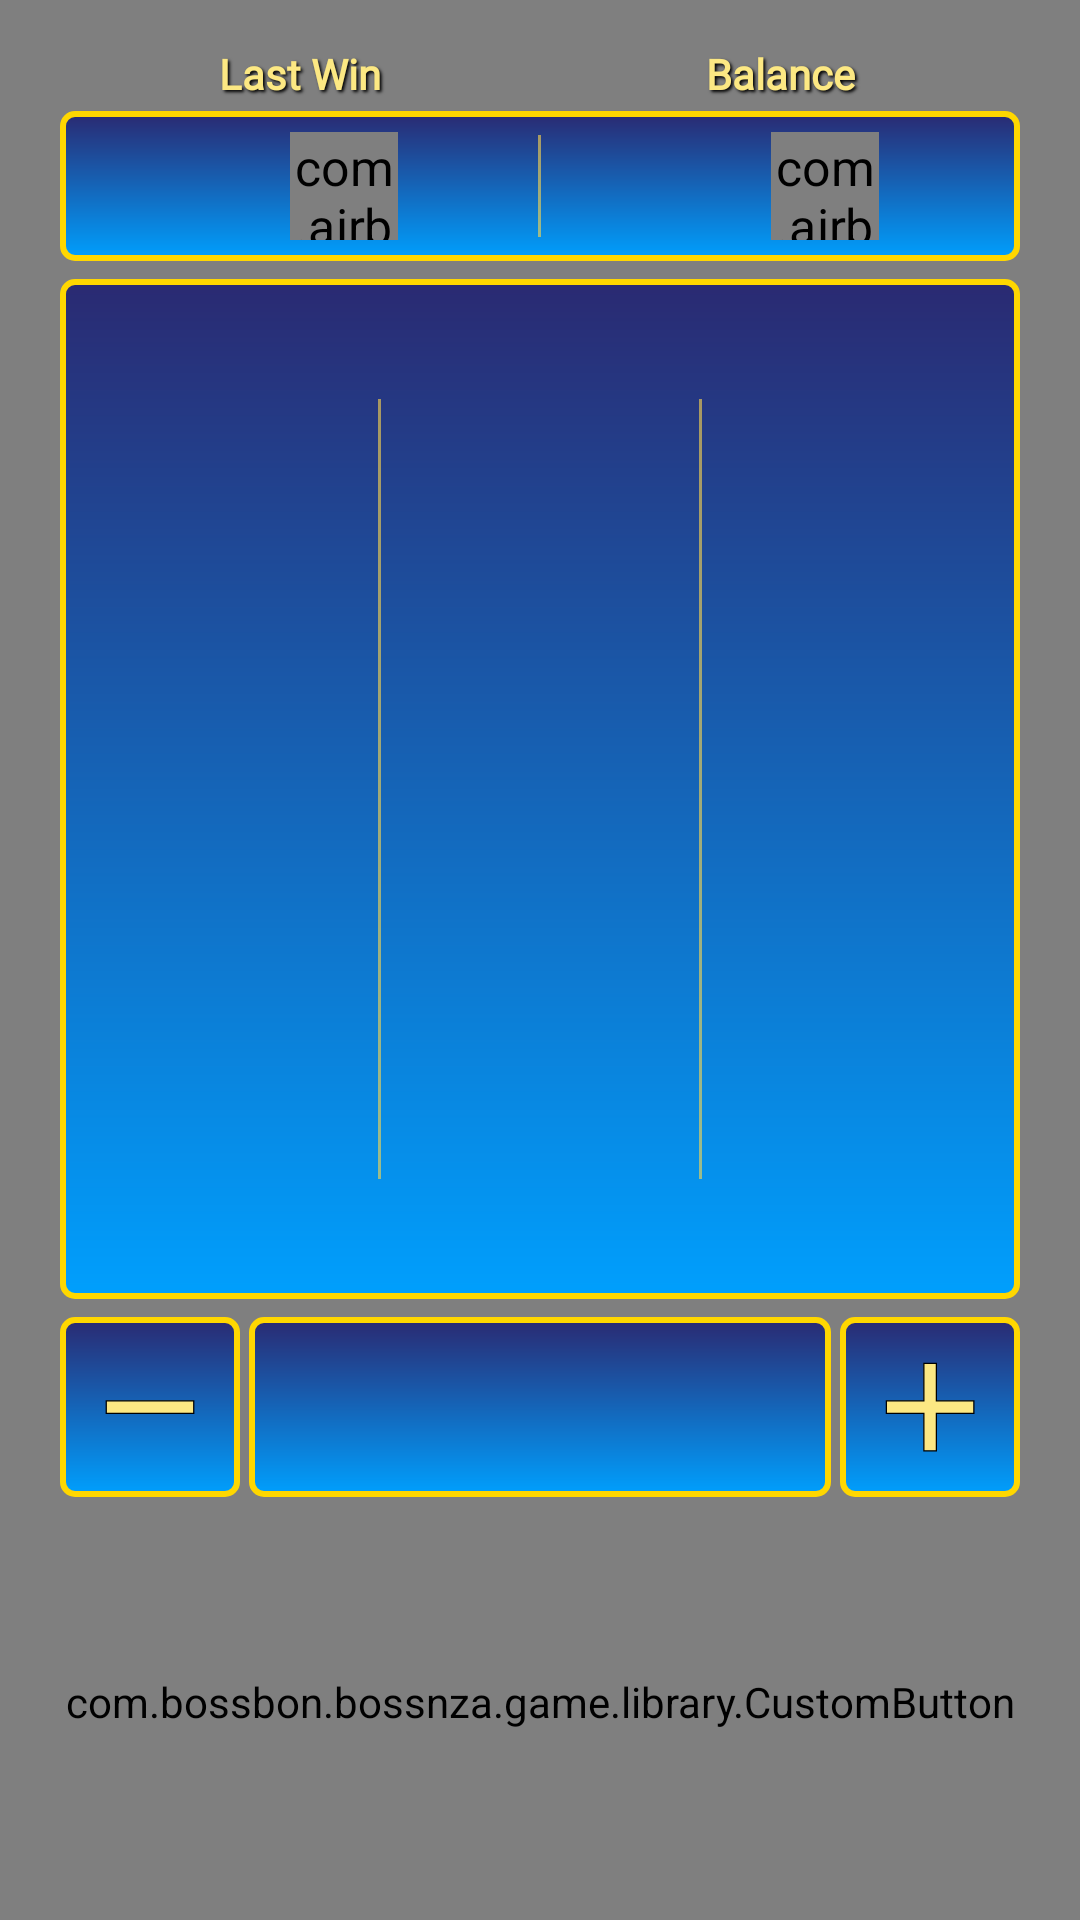

Named icons in this screenshot (1080*1920) and their bounding boxes, box=[x1, y1, x2, y2]:
less: box=[60, 1317, 240, 1497]
more: box=[840, 1317, 1020, 1497]
